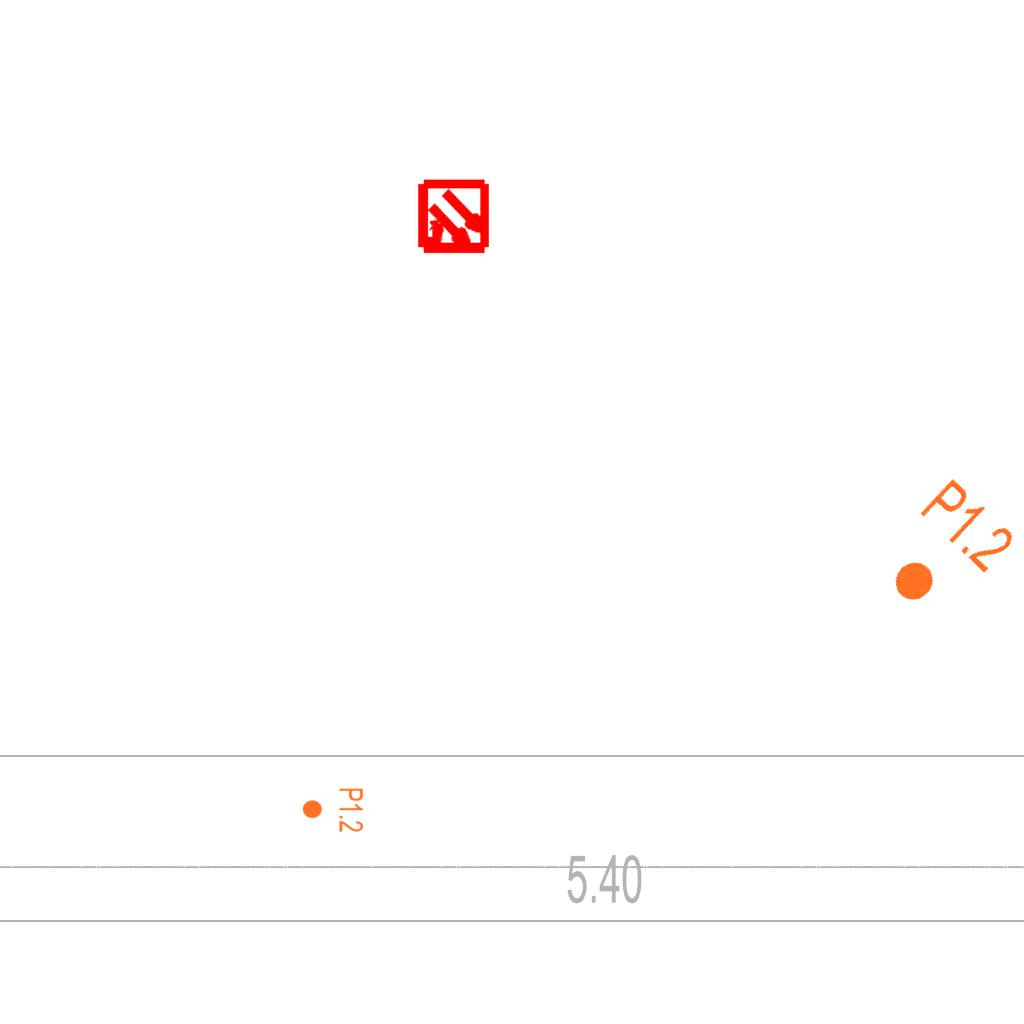Downlight_LED_Einbauleuchten_Flur: (865, 473, 1022, 631), (301, 787, 365, 833)
OT_Multisensormelder_(Kombination_RMO_WMD): (397, 162, 510, 275)
